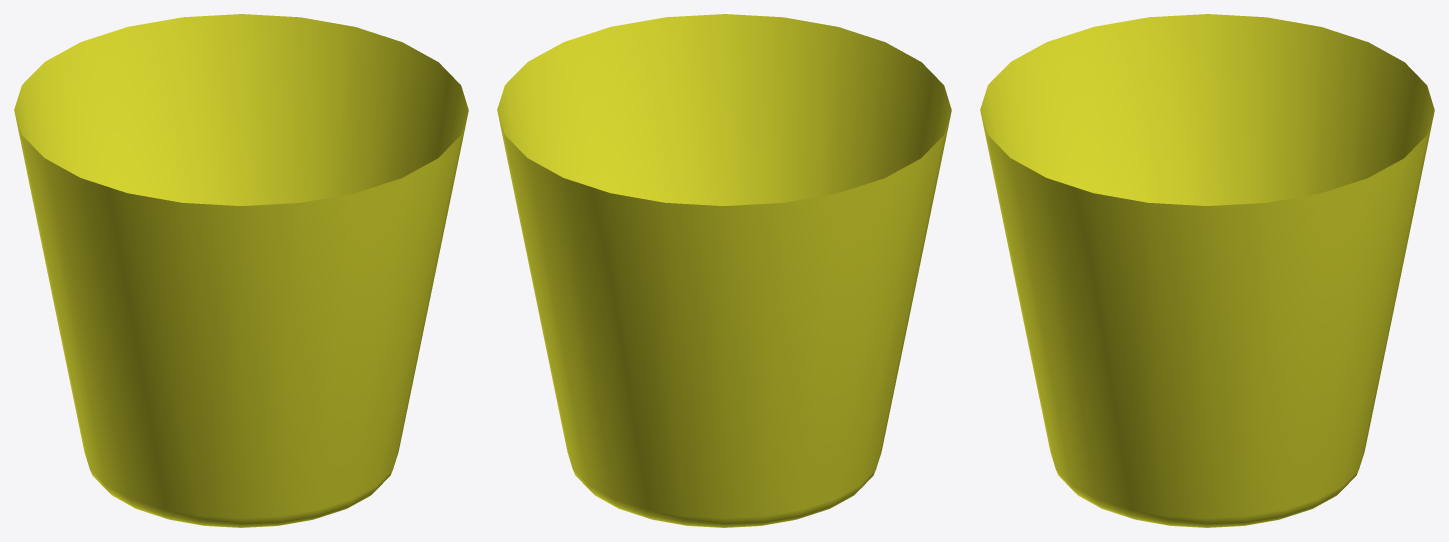
File: original-7.obj
3 views of the same model, side by side, from view 1: azimuth 30°, elevation 25°; view 2: azimuth 150°, elevation 25°; view 3: azimuth 270°, elevation 25° (orthographic).
Visible parts, largest first — view 1: #ID36; view 2: #ID36; view 3: #ID36.
Boxes of the visible parts, x1=… form: #ID36: x1=14, y1=14, x2=468, y2=527; #ID36: x1=497, y1=14, x2=951, y2=527; #ID36: x1=980, y1=14, x2=1434, y2=527.
Bounding box in the file's own units: 1.42 × 1.24 × 1.42.
